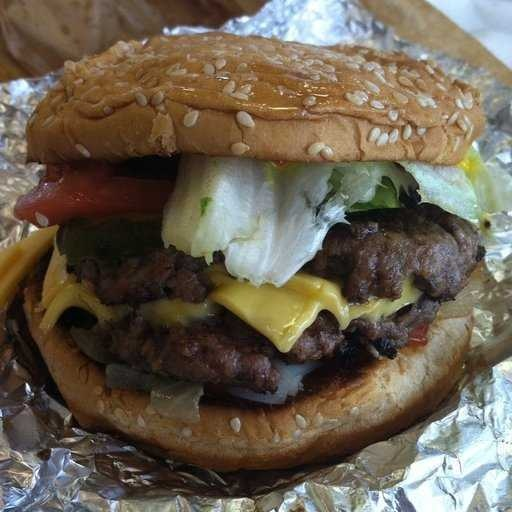hamburger: (21, 24, 506, 465)
